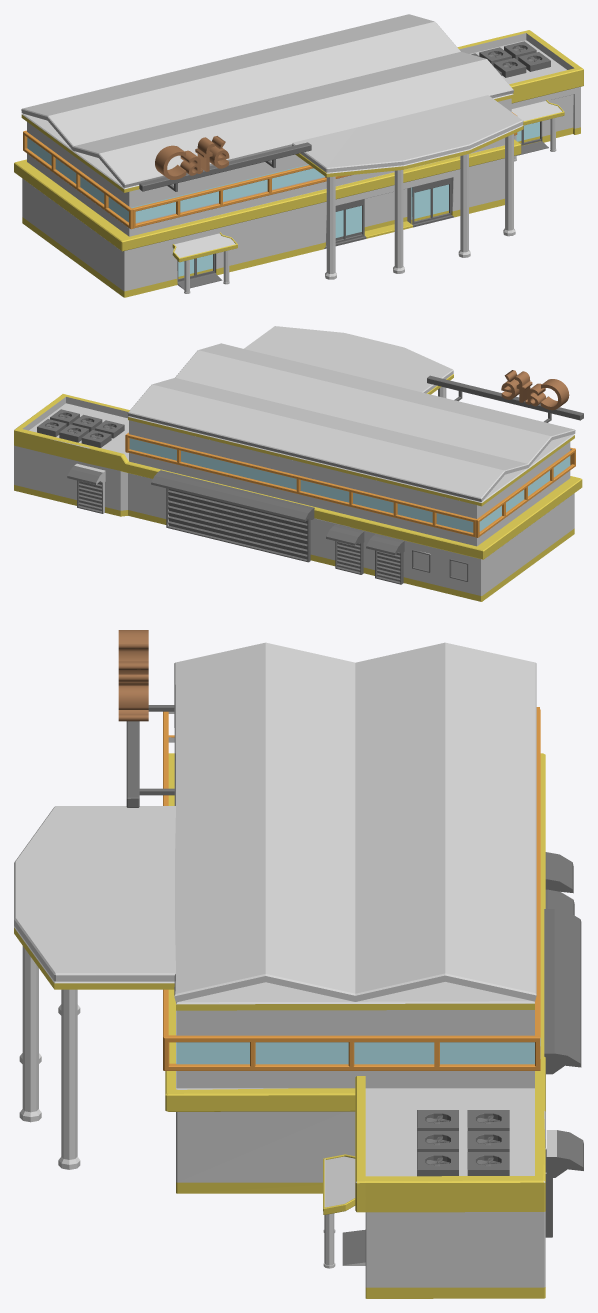
Rendered from market.fbx.
3 renders of one model, top to bottom at view 1: azimuth 30°, elevation 25°; view 2: azimuth 150°, elevation 25°; view 3: azimuth 270°, elevation 25°, orthographic. The views are drawn at different scales.
Parts seen in each view (by area): view 1: Market; view 2: Market; view 3: Market.
Part boxes in pixels (x1=…): Market: x1=14, y1=14, x2=583, y2=297; Market: x1=14, y1=326, x2=583, y2=601; Market: x1=14, y1=630, x2=583, y2=1298.
Size of the model in its own units: 28367 by 7803 by 15471.
